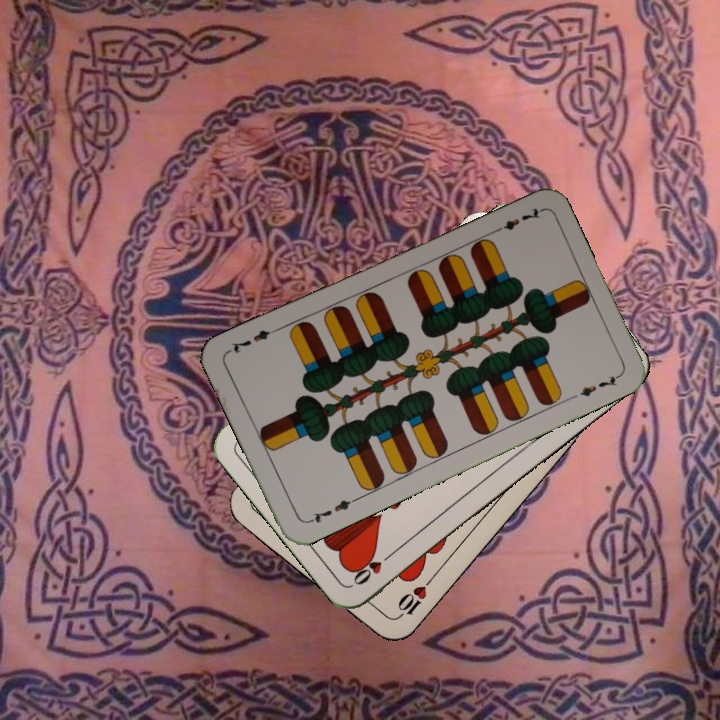E7: (303, 494, 359, 526), (488, 204, 544, 236)
H10: (391, 574, 435, 623)
HO: (348, 546, 399, 588)
